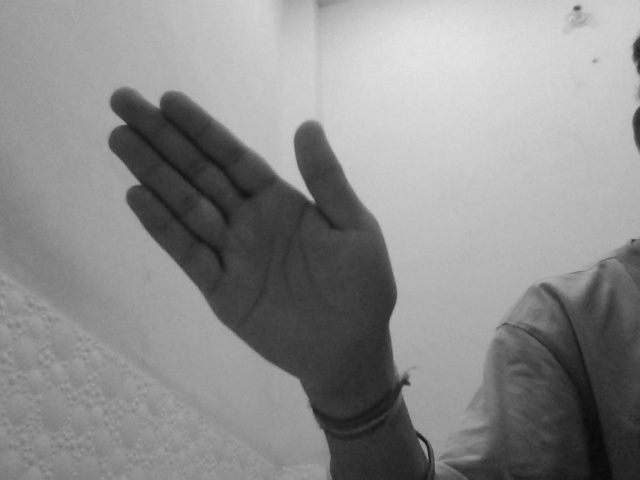Hello: (103, 80, 402, 395)
